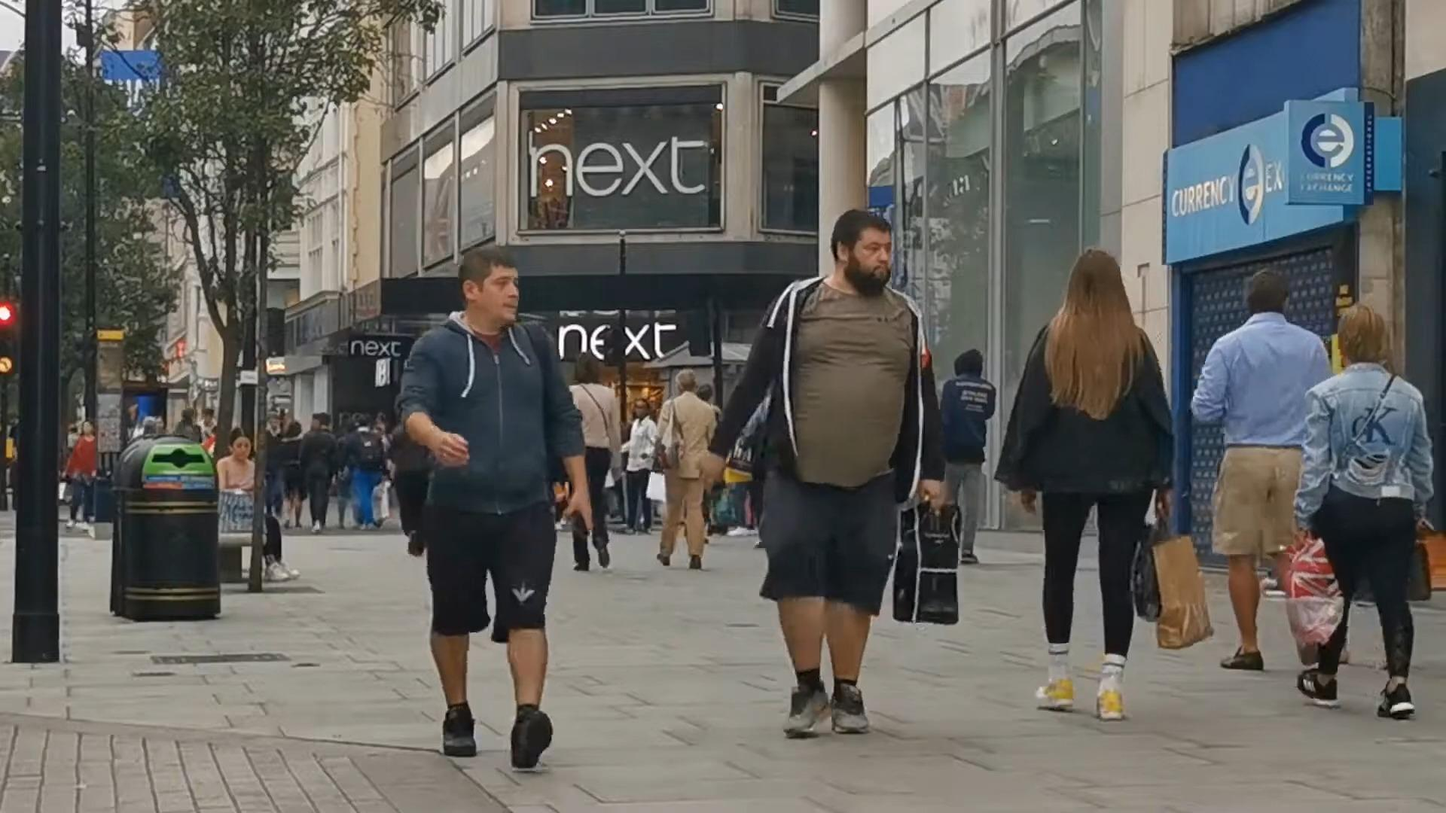no-helmet: (1058, 246, 1133, 338), (831, 208, 892, 298), (459, 247, 519, 326), (1338, 302, 1387, 370), (1247, 269, 1289, 317), (955, 348, 983, 379), (228, 426, 252, 461), (574, 352, 600, 384), (676, 367, 697, 393)
